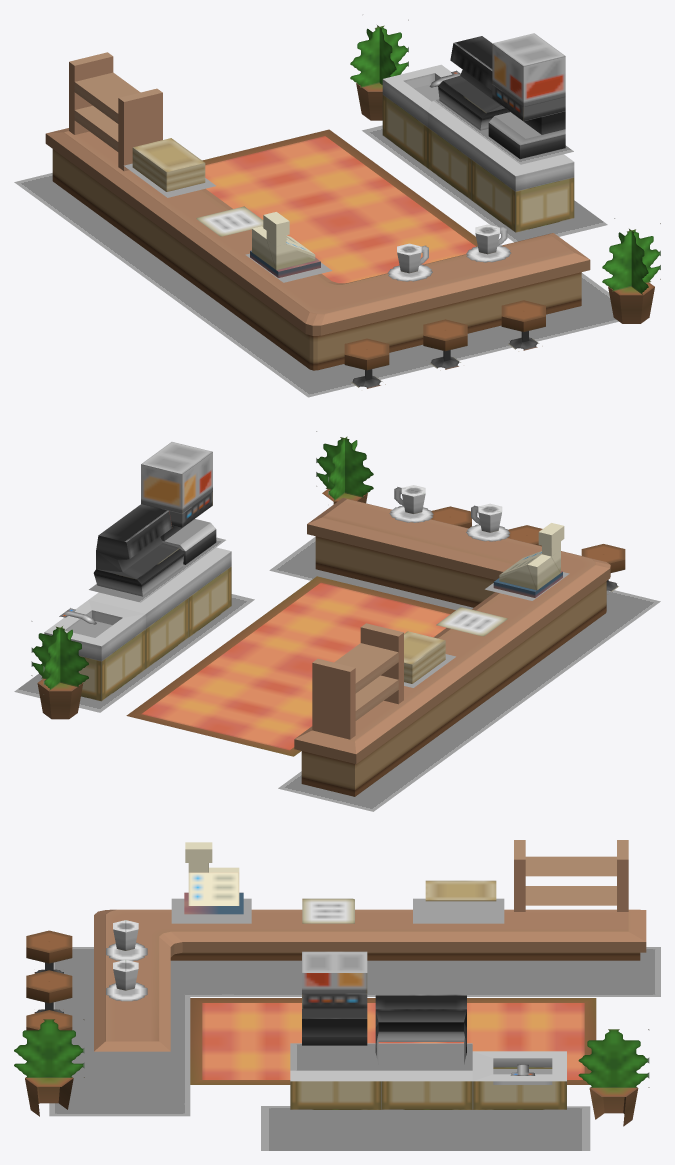
The picture shows the model from 3 angles, top to bottom: view 1: azimuth 30°, elevation 25°; view 2: azimuth 150°, elevation 25°; view 3: azimuth 270°, elevation 25°; orthographic projection. The views are drawn at different scales.
Visible parts, largest first — view 1: polygon0, polygon1; view 2: polygon0, polygon1; view 3: polygon0, polygon1.
Boxes of the visible parts, bbox=[...] form: polygon0: bbox=[45, 19, 660, 388]; polygon1: bbox=[14, 99, 618, 397]; polygon0: bbox=[31, 431, 625, 796]; polygon1: bbox=[14, 537, 660, 811]; polygon0: bbox=[14, 840, 649, 1126]; polygon1: bbox=[49, 898, 660, 1150].
Bounding box in the file's own units: 10.25 × 3.9 × 13.75.
2 materials, 2 textured.
